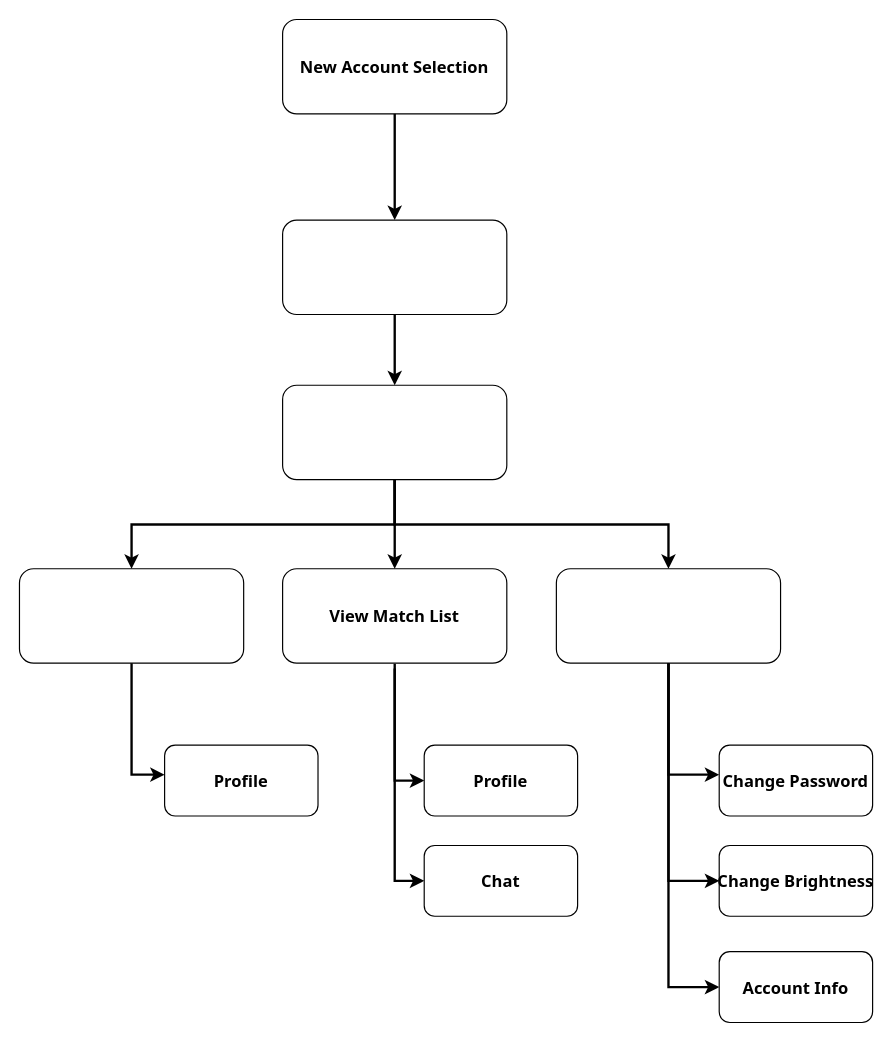
This 893x1042 diagram has some shape labels left out. The centre of each missing label's shape, as x and y in pixels:
Account Creation: pixel 394 266
Discover: pixel 131 615
Filter Settings: pixel 394 432
Settings: pixel 668 615
